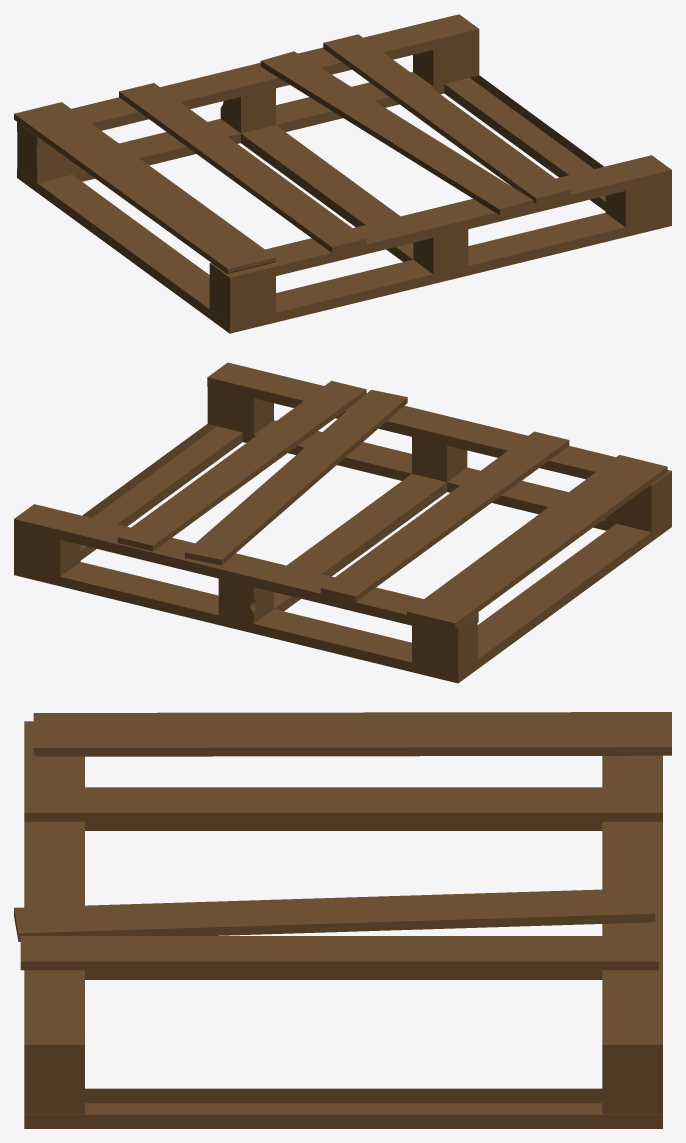
Rendered from WoodenPallet_Broken2.obj.
The picture shows the model from 3 angles, top to bottom: view 1: azimuth 30°, elevation 25°; view 2: azimuth 150°, elevation 25°; view 3: azimuth 270°, elevation 25°; orthographic projection. The views are drawn at different scales.
Visible parts, largest first — view 1: Cube.175; view 2: Cube.175; view 3: Cube.175.
Boxes of the visible parts, <box> form: Cube.175: <box>14,14,671,333</box>; Cube.175: <box>14,362,671,683</box>; Cube.175: <box>14,712,671,1128</box>.
Bounding box in the file's own units: 1.2 × 0.161 × 1.03.
